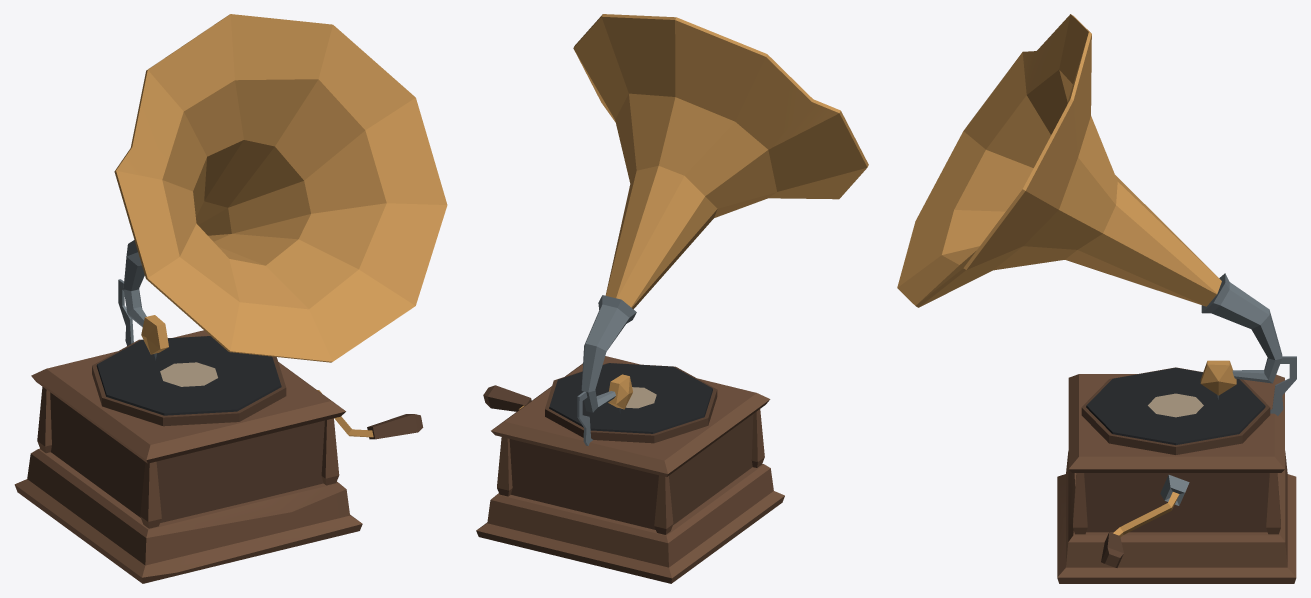
Rendered from Gramophone.fbx.
3 renders of one model, left to right at view 1: azimuth 30°, elevation 25°; view 2: azimuth 150°, elevation 25°; view 3: azimuth 270°, elevation 25°, orthographic. The views are drawn at different scales.
Visible parts, largest first — view 1: Gramophone; view 2: Gramophone; view 3: Gramophone.
Boxes of the visible parts, left/top/right/bottom form: Gramophone: left=14, top=14, right=447, bottom=583; Gramophone: left=476, top=14, right=868, bottom=583; Gramophone: left=897, top=14, right=1296, bottom=583.
Bounding box in the file's own units: 70.44 × 102 × 74.05.
1 material, 1 textured.
